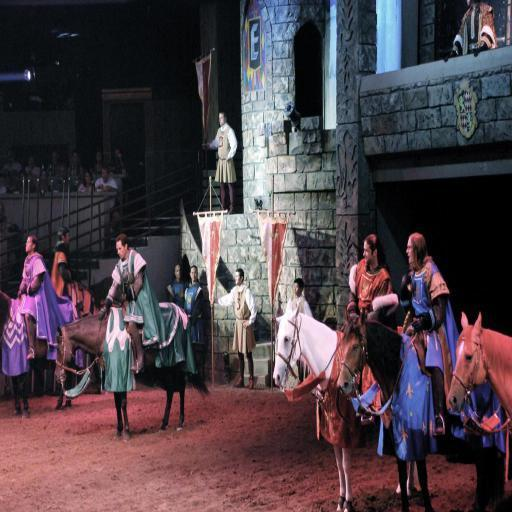horse: (335, 306, 497, 512), (271, 300, 419, 510), (54, 303, 210, 441), (0, 290, 76, 424), (448, 310, 512, 430)
